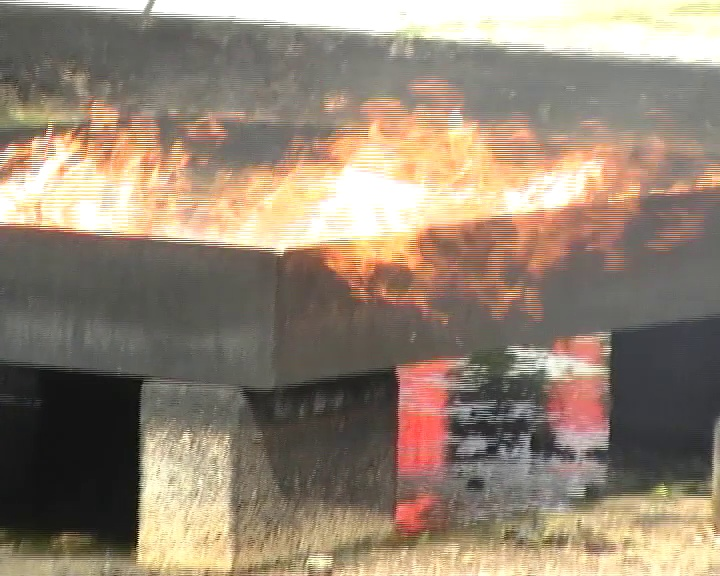fire: (1, 98, 659, 302)
